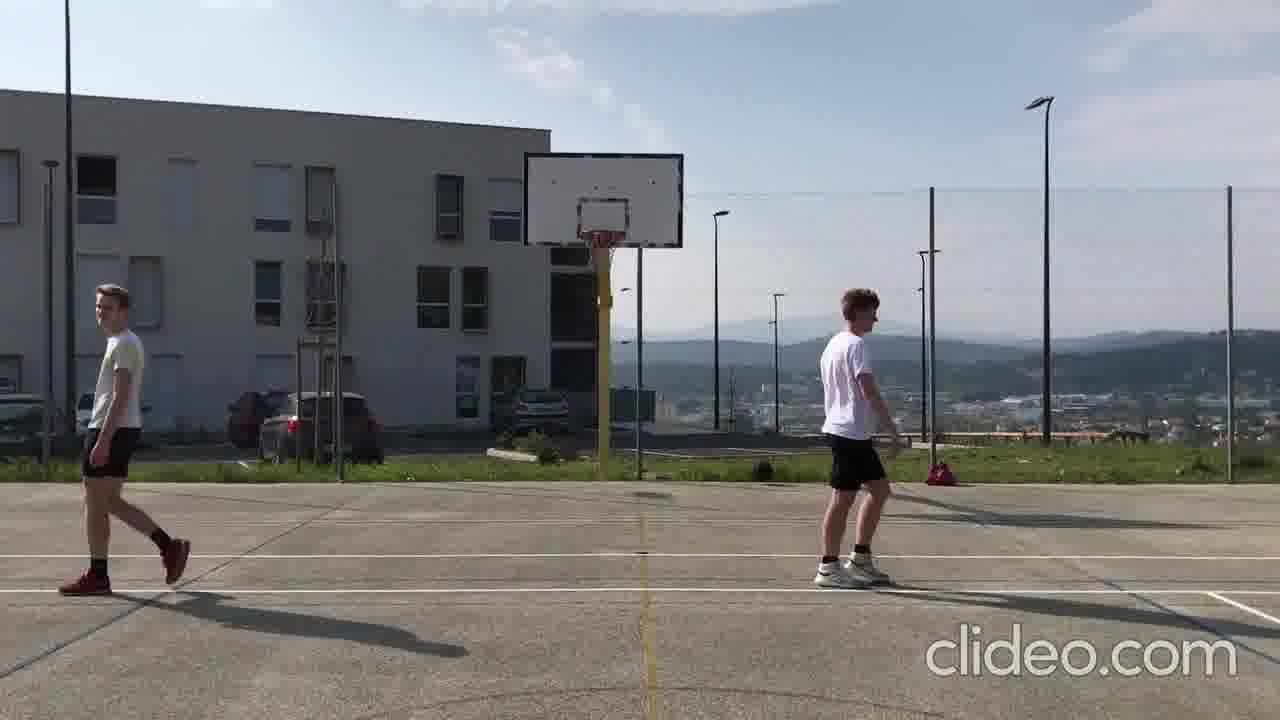jugador: (53, 273, 196, 602)
